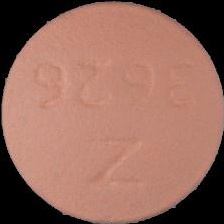11819-348: (0, 0, 224, 224)
